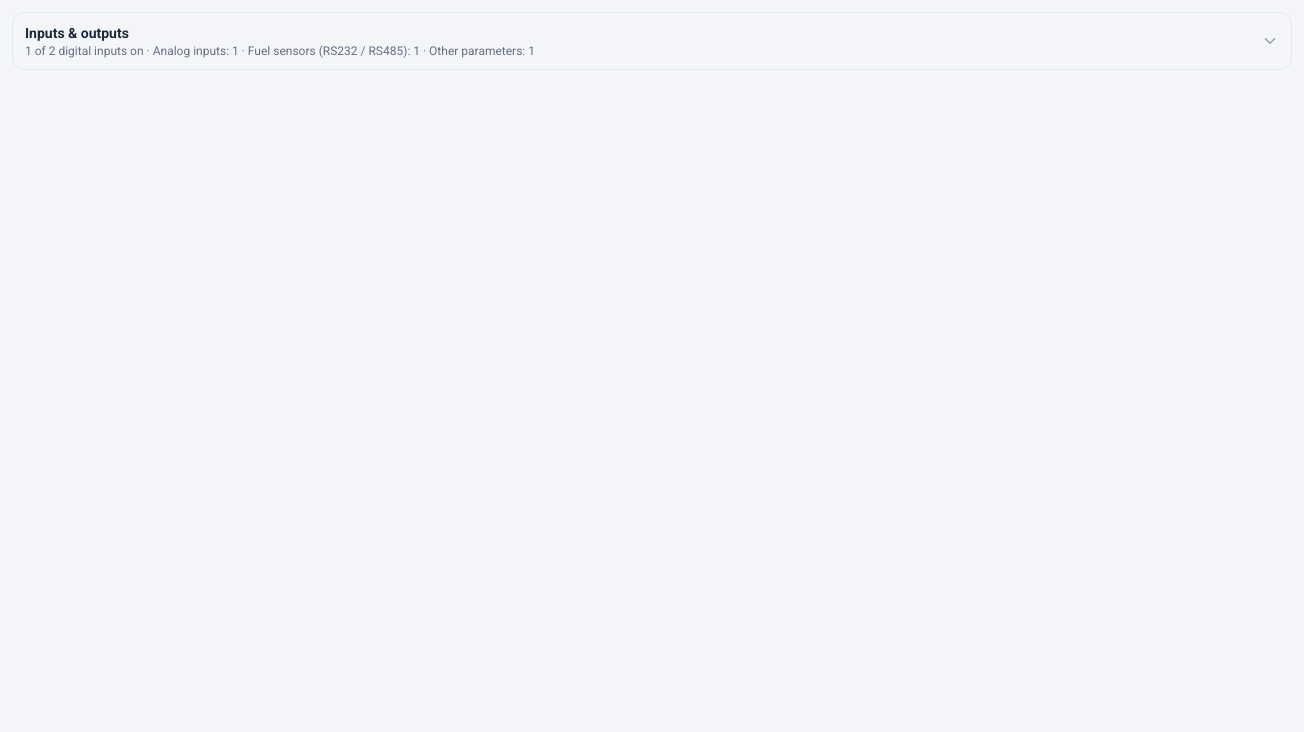
Test: FmbIoPanelView › keeps unnamed parameters folded and labels them as unknown with their AVL id
The image size is (1304, 732).
Click the button "Inputs & outputs": (77, 33) [13,13,1291,69]
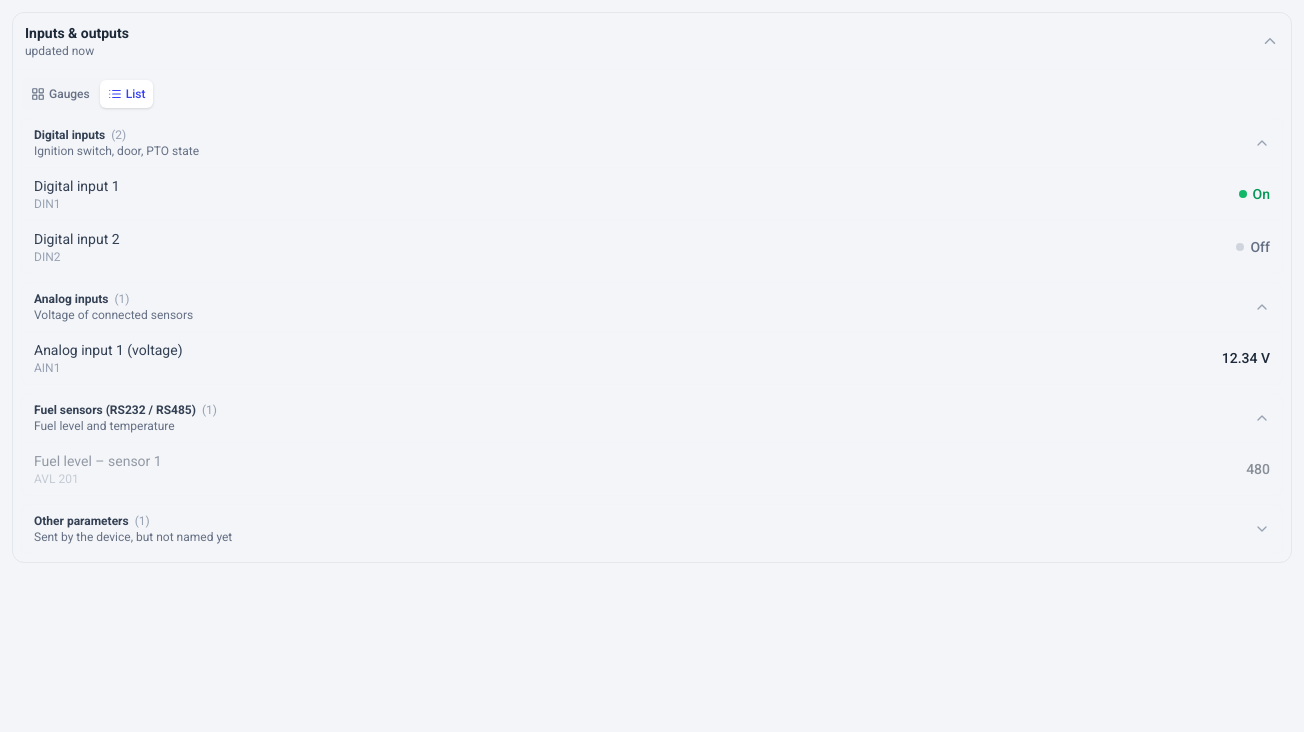
Expected: the text "AVL 300" is not shown
Click the button "Other parameters(1) Sent by the device, but not named yet": (81, 521) [22,505,1282,553]
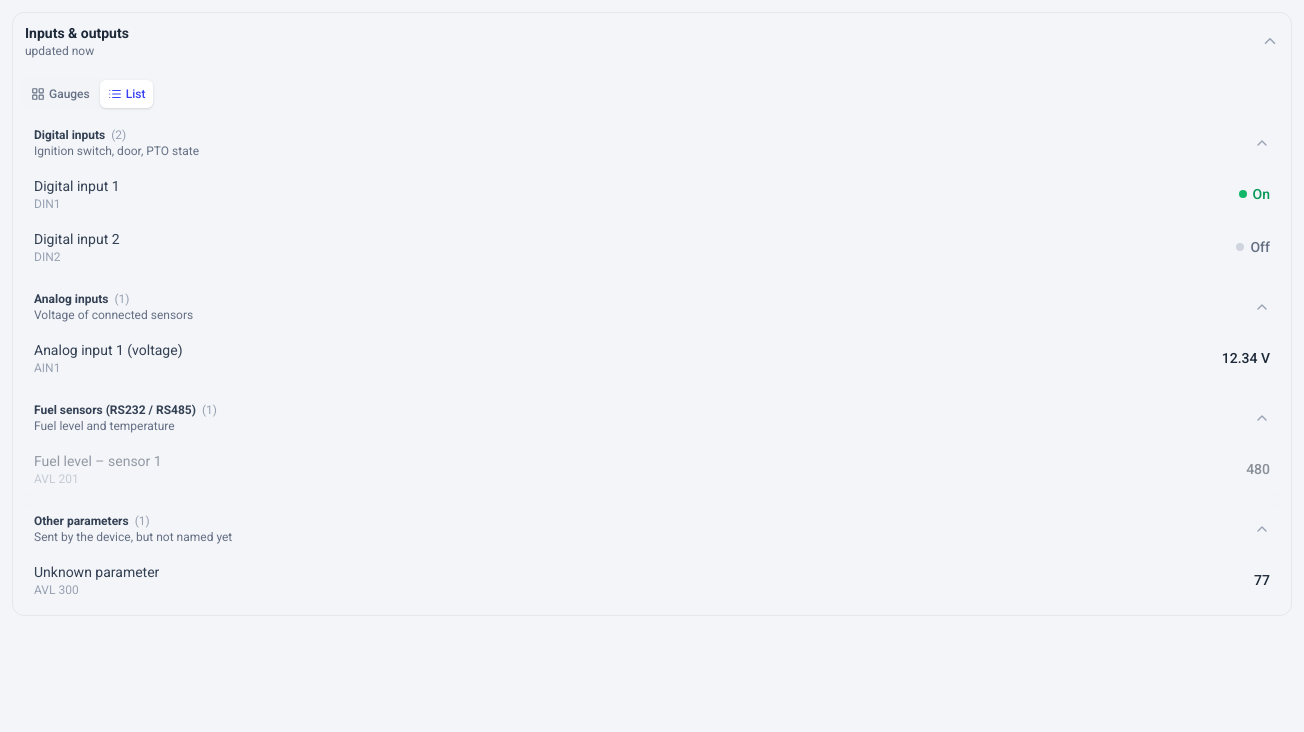
Result: the text "Unknown parameter" is shown at [34,562,159,582]
Result: the text "AVL 300" is shown at [34,583,79,597]
